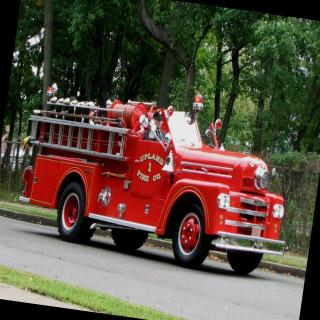Fire_truck: (8, 70, 305, 281)
